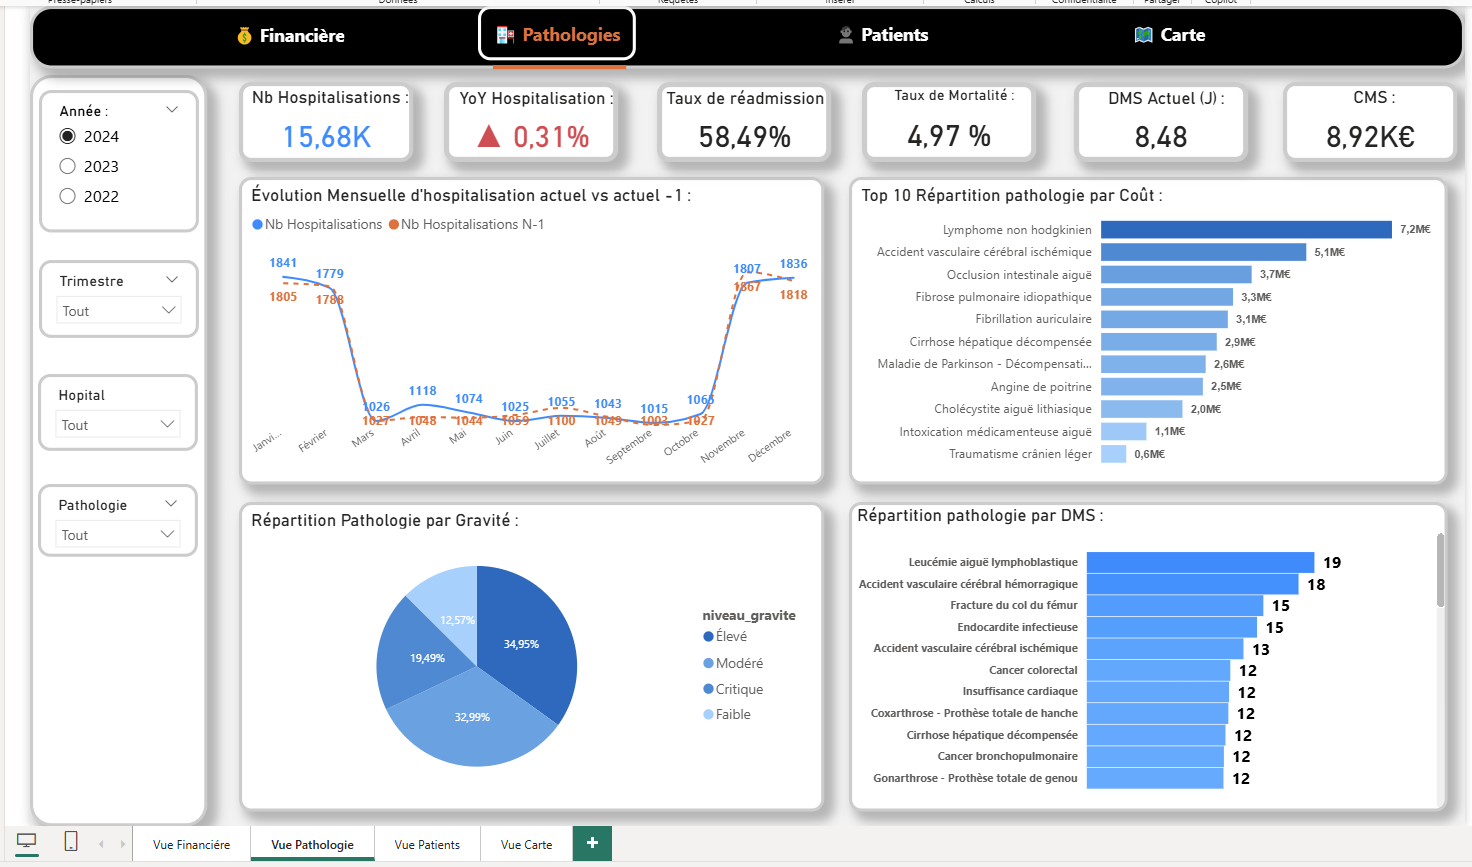

This screenshot's page, from the dashboard's own definition file:
{"tool":"powerbi","page":{"name":"Vue Pathologie","canvas":[1400,800],"ordinal":1},"visuals":[{"type":"shape","box":[0,67.4,173.3,732.6],"z":0},{"type":"textbox","box":[0,0,1400,61],"z":1000},{"type":"card","title":"Nb Hospitalisations : ","fields":{"Values":["Mesures.Nb Hospitalisations"]},"box":[204.3,73.8,170.1,78.1],"z":2000},{"type":"card","title":"YoY Hospitalisation :","fields":{"Values":["Mesures.Évolution YoY Hospitalisations %"]},"box":[404.3,73.8,170.1,78.1],"z":3000},{"type":"card","title":"Taux de Mortalité : ","fields":{"Values":["Mesures.Taux Mortalité"]},"box":[811.8,73.8,170.1,78.1],"z":4000},{"type":"lineChart","title":"Évolution Mensuelle d''hospitalisation actuel vs actuel -1  :","fields":{"Y":["Mesures.Nb Hospitalisations","Mesures.Nb Hospitalisations N-1"],"Category":["dim_temps.mois_libelle"]},"box":[204,167,571,300],"z":5000},{"type":"pieChart","title":"Répartition Pathologie par Gravité : ","fields":{"Y":["Mesures.Nb Hospitalisations"],"Category":["dim_pathologies.niveau_gravite"]},"box":[204.2,483.5,571,301.8],"z":6000},{"type":"barChart","title":"Top 10 Répartition pathologie par Coût :","fields":{"Category":["dim_pathologies.libelle_pathologie"],"Y":["Mesures.Coût Total"]},"box":[799,167,584,300],"z":7000},{"type":"barChart","title":"Répartition pathologie par DMS :","fields":{"Y":["Mesures.Durée moyenne séjour Actuel"],"Category":["dim_pathologies.libelle_pathologie"]},"box":[798.7,483.5,584.5,301.8],"z":8000},{"type":"actionButton","box":[173.7,1,159,53.7],"z":9000},{"type":"actionButton","box":[1049.8,0,122,52.7],"z":10000},{"type":"actionButton","box":[437.1,0,154.1,52.7],"z":11000},{"type":"actionButton","box":[744.4,0,173.7,52.7],"z":12000},{"type":"shape","box":[452,53,130,14],"z":13000},{"type":"card","title":"Taux de réadmission :","fields":{"Values":["Mesures.Taux Réadmission"]},"box":[611.8,73.8,170.1,78.1],"z":14000},{"type":"card","title":"DMS Actuel (J) : ","fields":{"Values":["Mesures.Durée moyenne séjour Actuel"]},"box":[1018.2,73.8,170.1,78.1],"z":15000},{"type":"card","title":"CMS  :","fields":{"Values":["Mesures.Coût Moyen Séjour"]},"box":[1222.5,73.8,170.1,78.1],"z":16000},{"type":"slicer","fields":{"Values":["dim_temps.annee"]},"box":[9,82,156,139],"z":17000},{"type":"slicer","fields":{"Values":["dim_pathologies.libelle_pathologie"]},"box":[7.9,466.7,155.9,70.7],"z":19000},{"type":"slicer","fields":{"Values":["dim_hopital.nom_hopital"]},"box":[7.9,359,155.9,75.2],"z":20000},{"type":"slicer","fields":{"Values":["dim_temps.trimestre_libelle"]},"box":[9,248,156,76],"z":21000}]}

Visuals, with their boxes on the page's 1400x800 design canvas (x1, y1, x2, y2). These are canvas units, not pixel positions in the 1472x867 screenshot, which may show the page scaled, cropped or inside an application window:
shape: rect(0, 67, 173, 800)
textbox: rect(0, 0, 1400, 61)
"Nb Hospitalisations : " card: rect(204, 74, 374, 152)
"YoY Hospitalisation :" card: rect(404, 74, 574, 152)
"Taux de Mortalité : " card: rect(812, 74, 982, 152)
"Évolution Mensuelle d''hospitalisation actuel vs actuel -1  :" lineChart: rect(204, 167, 775, 467)
"Répartition Pathologie par Gravité : " pieChart: rect(204, 484, 775, 785)
"Top 10 Répartition pathologie par Coût :" barChart: rect(799, 167, 1383, 467)
"Répartition pathologie par DMS :" barChart: rect(799, 484, 1383, 785)
actionButton: rect(174, 1, 333, 55)
actionButton: rect(1050, 0, 1172, 53)
actionButton: rect(437, 0, 591, 53)
actionButton: rect(744, 0, 918, 53)
shape: rect(452, 53, 582, 67)
"Taux de réadmission :" card: rect(612, 74, 782, 152)
"DMS Actuel (J) : " card: rect(1018, 74, 1188, 152)
"CMS  :" card: rect(1222, 74, 1393, 152)
slicer - dim_temps.annee: rect(9, 82, 165, 221)
slicer - dim_pathologies.libelle_pathologie: rect(8, 467, 164, 537)
slicer - dim_hopital.nom_hopital: rect(8, 359, 164, 434)
slicer - dim_temps.trimestre_libelle: rect(9, 248, 165, 324)
